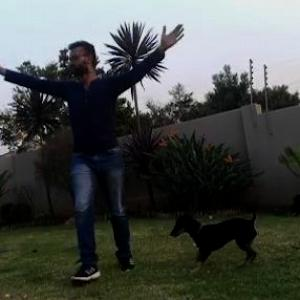takeoff: (1, 0, 166, 285)
